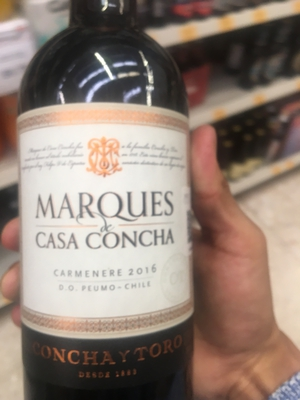marques de casa concha carmenere: (20, 23, 188, 385)
